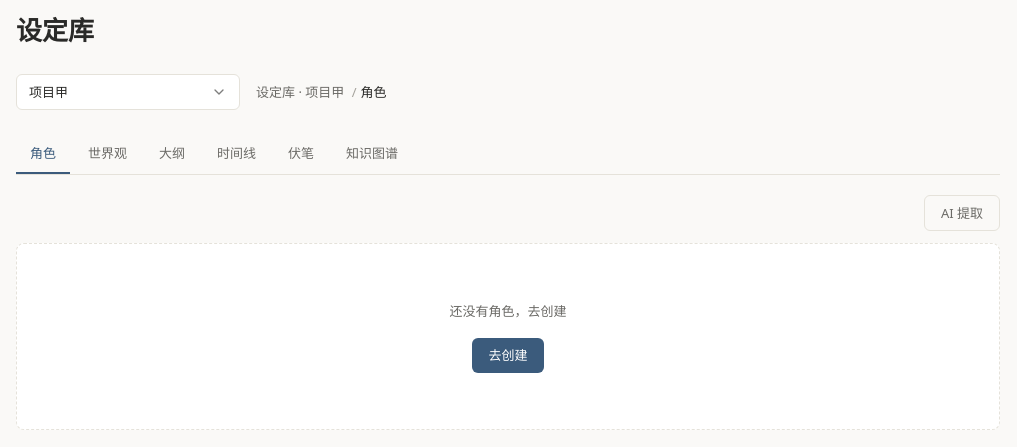
Test: 设定库页 — 世界观默认视图重设计（#568） › 信息层级：空 content 的条目不渲染描述预览（行高收敛）
This screenshot has width=1017, height=447.
What coordinates should you click on to do the following:
click the tab "世界观"
I would click on:
 (108, 154)
Its box is [74,134,141,174].
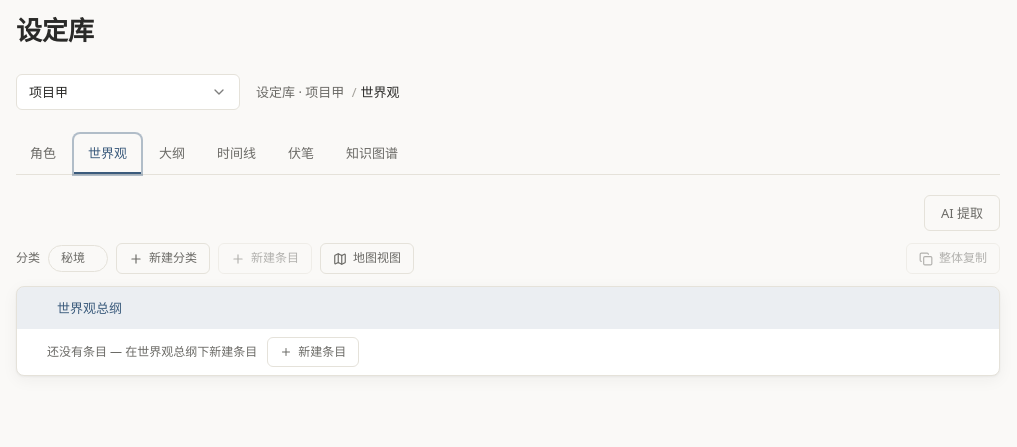
Expected: the element with test id "library-list" is shown, [16,286,1000,376]
